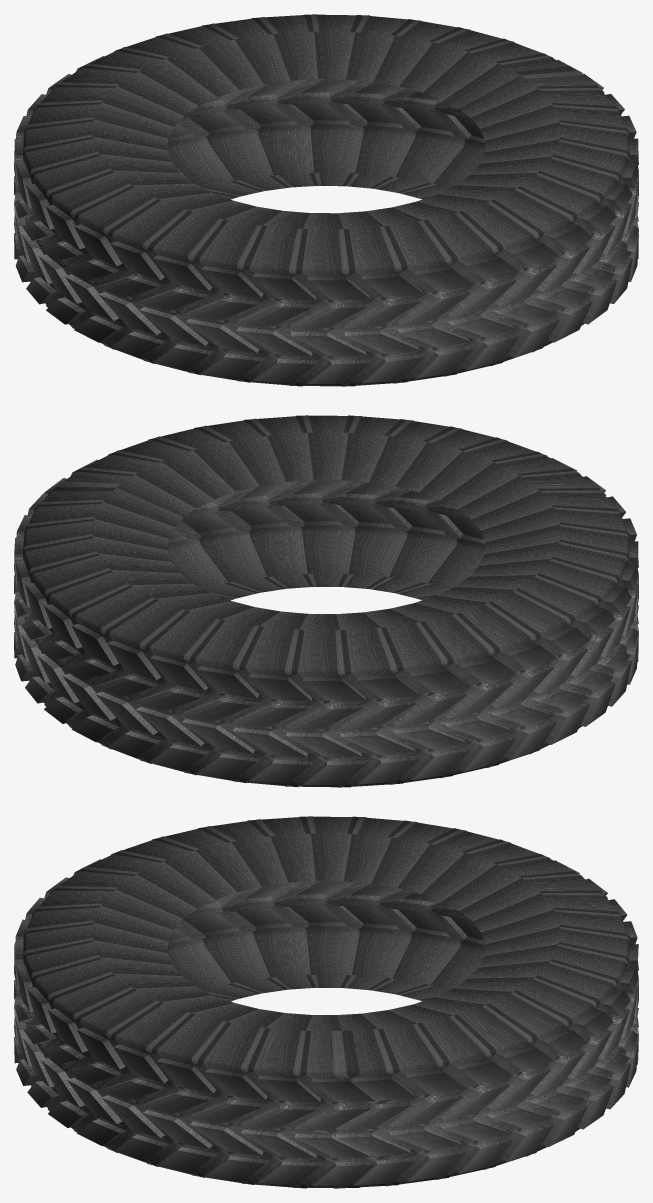
The model's file is Tire.FBX.
3 views of the same model, one above another, from view 1: azimuth 30°, elevation 25°; view 2: azimuth 150°, elevation 25°; view 3: azimuth 270°, elevation 25° (orthographic).
Parts seen in each view (by area): view 1: Plane045; view 2: Plane045; view 3: Plane045.
Boxes of the visible parts, <box> form: Plane045: <box>14,14,638,386</box>; Plane045: <box>14,415,638,787</box>; Plane045: <box>14,816,638,1188</box>.
Size of the model in its own units: 28.92 by 7.2 by 28.92.
Materials: 1 (1 with a texture image).
